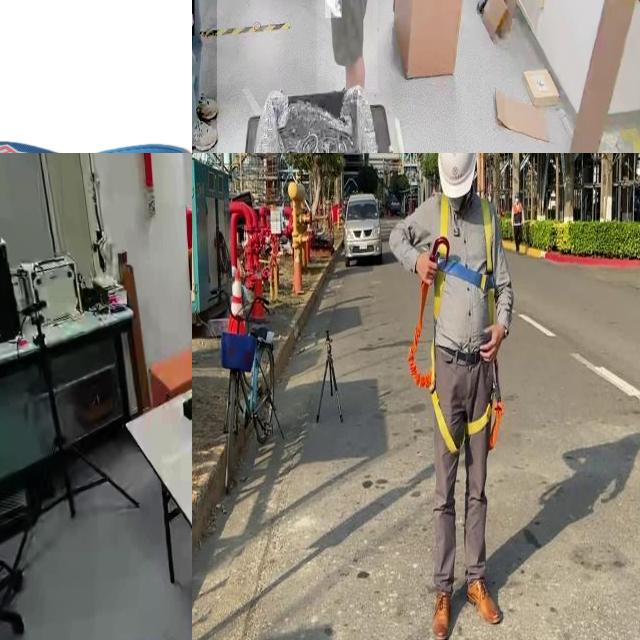Harness: (408, 283, 504, 474), (431, 194, 496, 324)
hand_glove: (325, 0, 342, 18)
person: (316, 0, 377, 93)
shoes: (192, 91, 223, 126), (192, 119, 222, 153)
